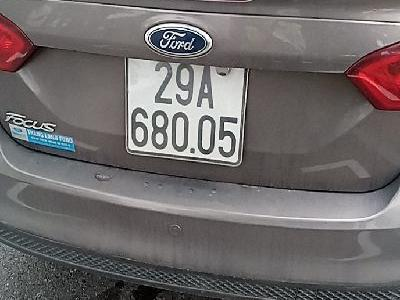lisence: (124, 54, 252, 169)
